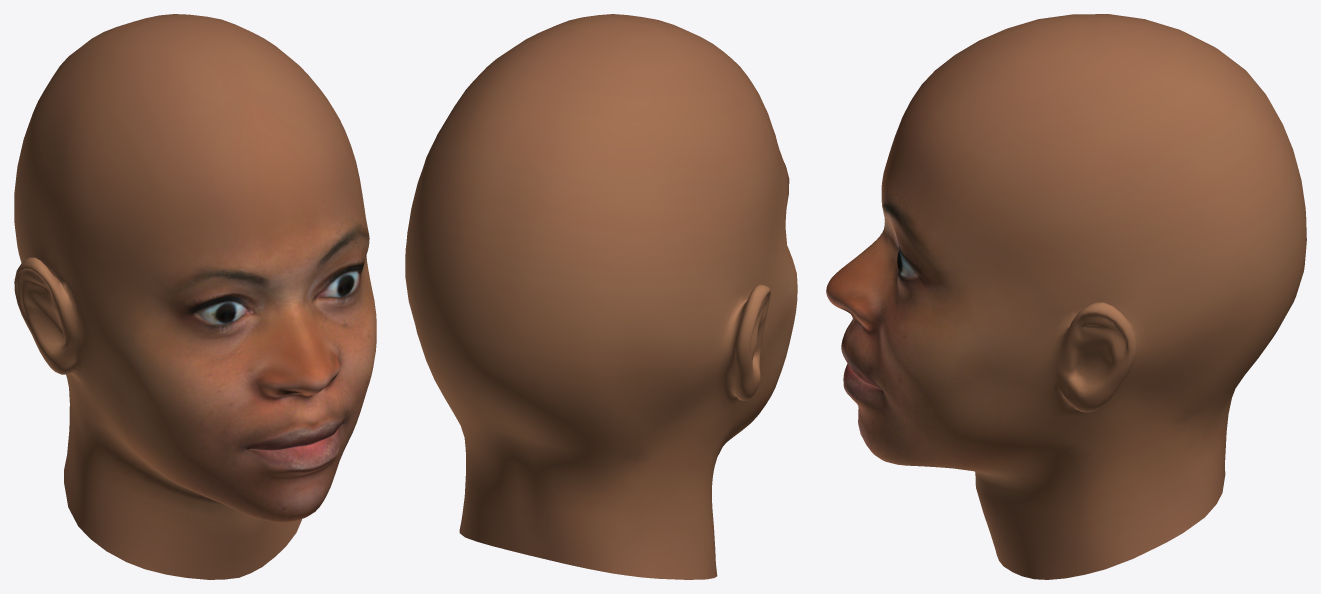
File: v332_obj_ModifierBrowLowerer(AU04)Right.obj
The picture shows the model from 3 angles, left to right: view 1: azimuth 30°, elevation 25°; view 2: azimuth 150°, elevation 25°; view 3: azimuth 270°, elevation 25°; orthographic projection. The views are drawn at different scales.
Visible parts, largest first — view 1: HeadHires; view 2: HeadHires; view 3: HeadHires.
Boxes of the visible parts, x1=… form: HeadHires: x1=14, y1=14, x2=376, y2=579; HeadHires: x1=405, y1=14, x2=797, y2=579; HeadHires: x1=826, y1=14, x2=1306, y2=579.
Size of the model in its own units: 187 by 282 by 233.
